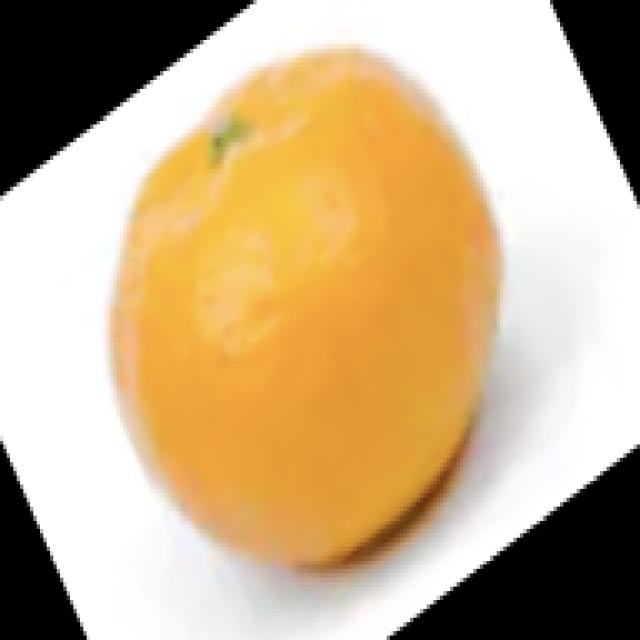matang: (112, 47, 504, 575)
